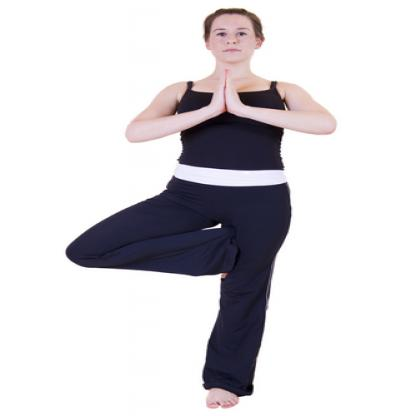tree: (56, 3, 346, 410)
